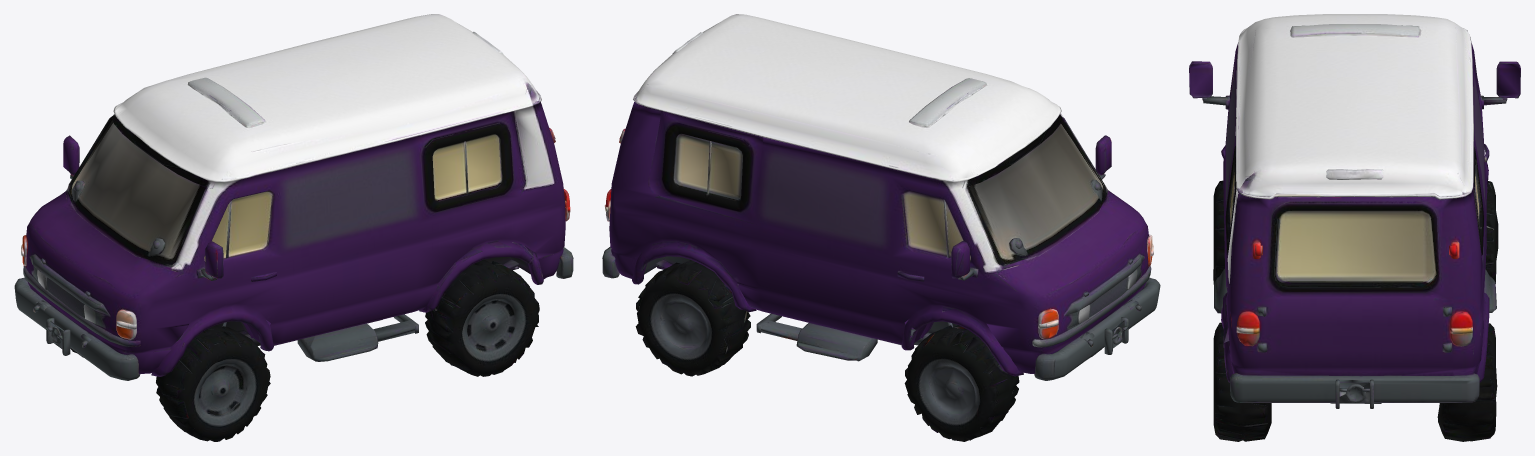
Rendered from trafficVan.bfd54772.glb.
The picture shows the model from 3 angles, left to right: view 1: azimuth 30°, elevation 25°; view 2: azimuth 150°, elevation 25°; view 3: azimuth 270°, elevation 25°; orthographic projection. The views are drawn at different scales.
Size of the model in its own units: 0.958 by 0.5469 by 0.541.
Materials: 1 (1 with a texture image).
